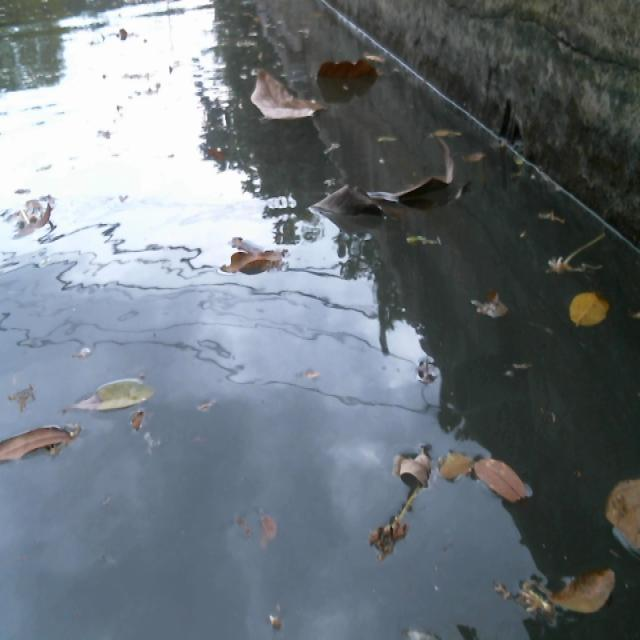Big-leaf: (305, 133, 459, 226), (250, 71, 329, 124), (218, 230, 288, 280), (315, 55, 380, 86)
Small-leaf: (538, 564, 629, 621), (0, 422, 88, 477), (456, 272, 518, 335), (562, 271, 621, 337), (482, 449, 535, 517), (602, 473, 640, 562), (72, 377, 158, 416), (355, 43, 408, 78), (436, 450, 477, 491), (397, 442, 436, 484), (18, 201, 57, 242), (365, 122, 413, 155), (422, 122, 469, 145), (467, 146, 492, 169)
